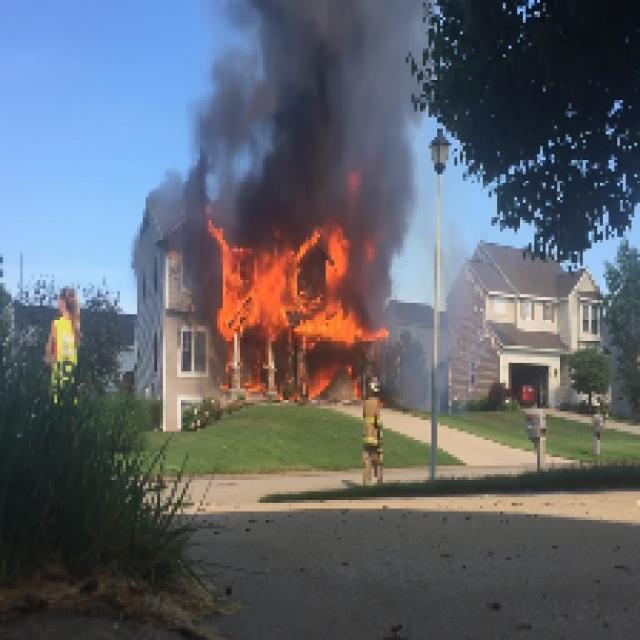Fire: (217, 228, 357, 332)
Smoke: (194, 3, 423, 166), (379, 174, 432, 317), (217, 171, 320, 220)
